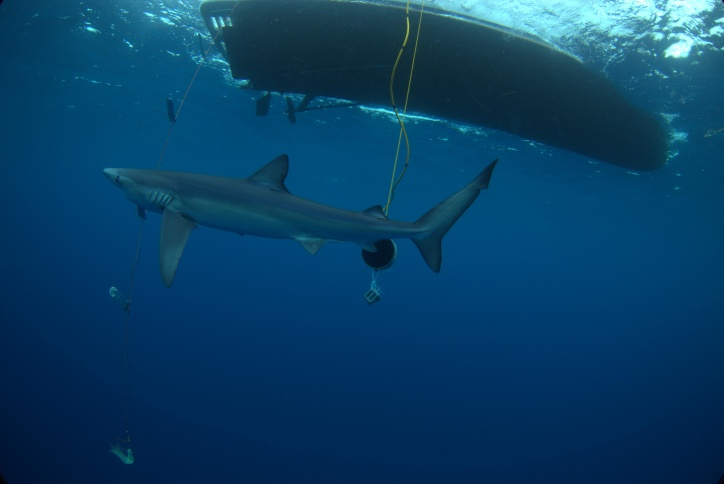Azul: (81, 135, 511, 312)
